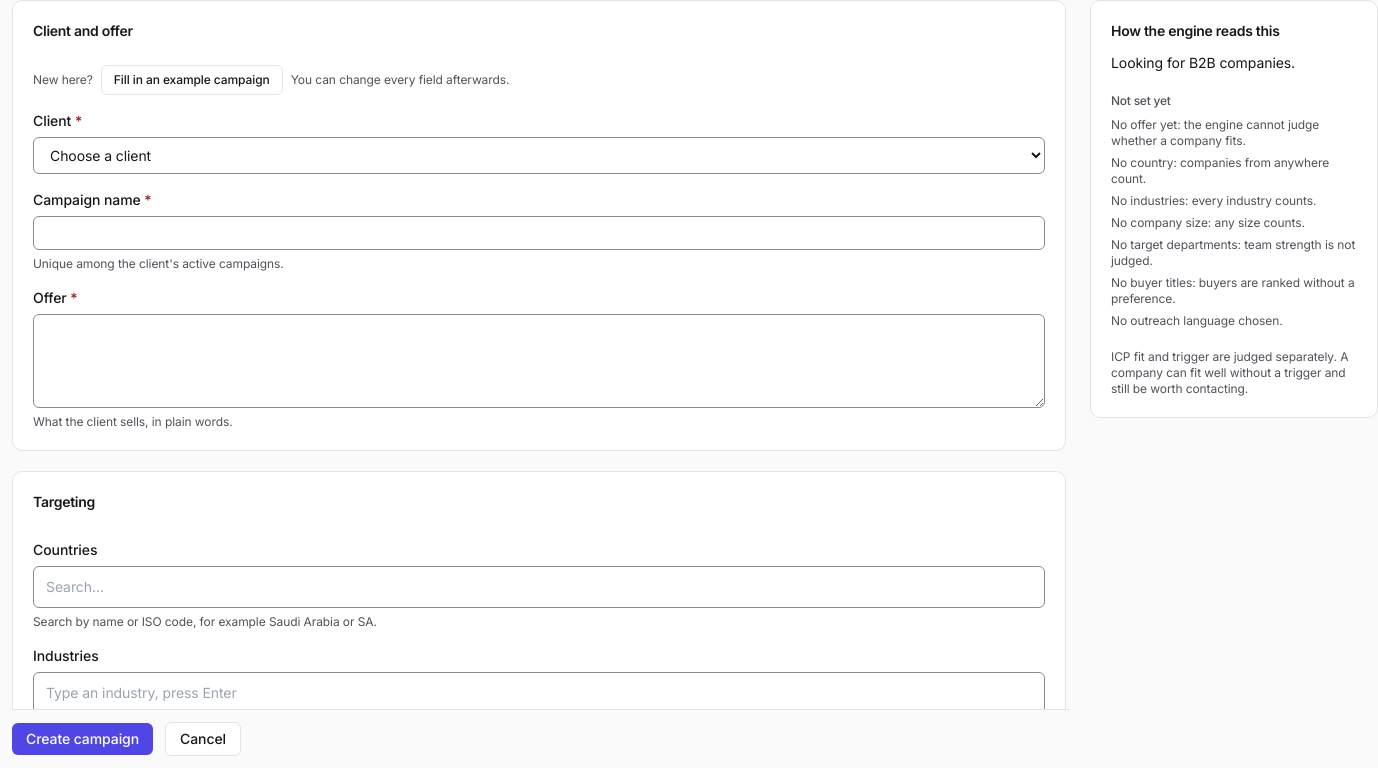
CampaignForm (create) › turns read-only on a 403
The image size is (1378, 768).
Select "SkyLight" in the dropdown labelled "Client *" at (539, 156), box [33, 137, 1045, 174]
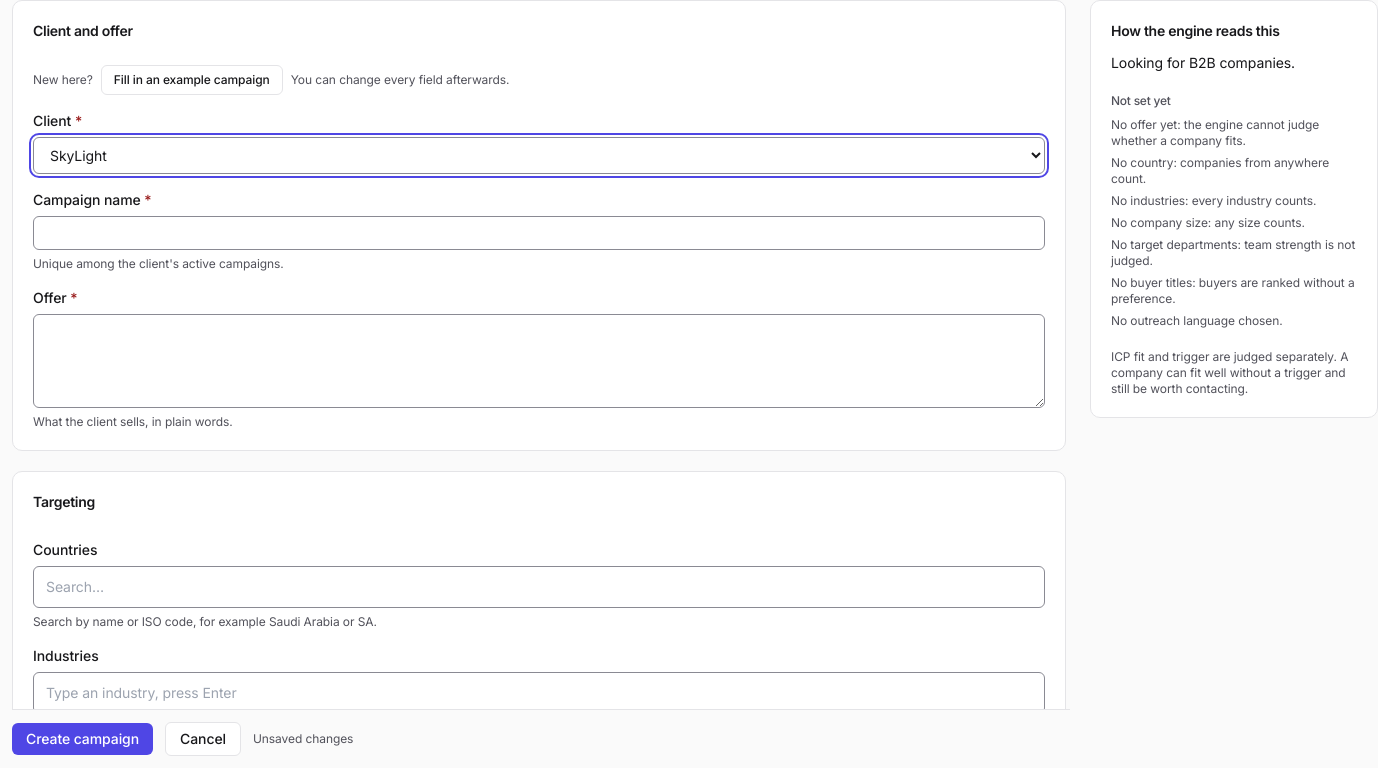
Type "N" into the field labelled "Campaign name *".
click(539, 233); type("N")  # box [33, 216, 1045, 250]
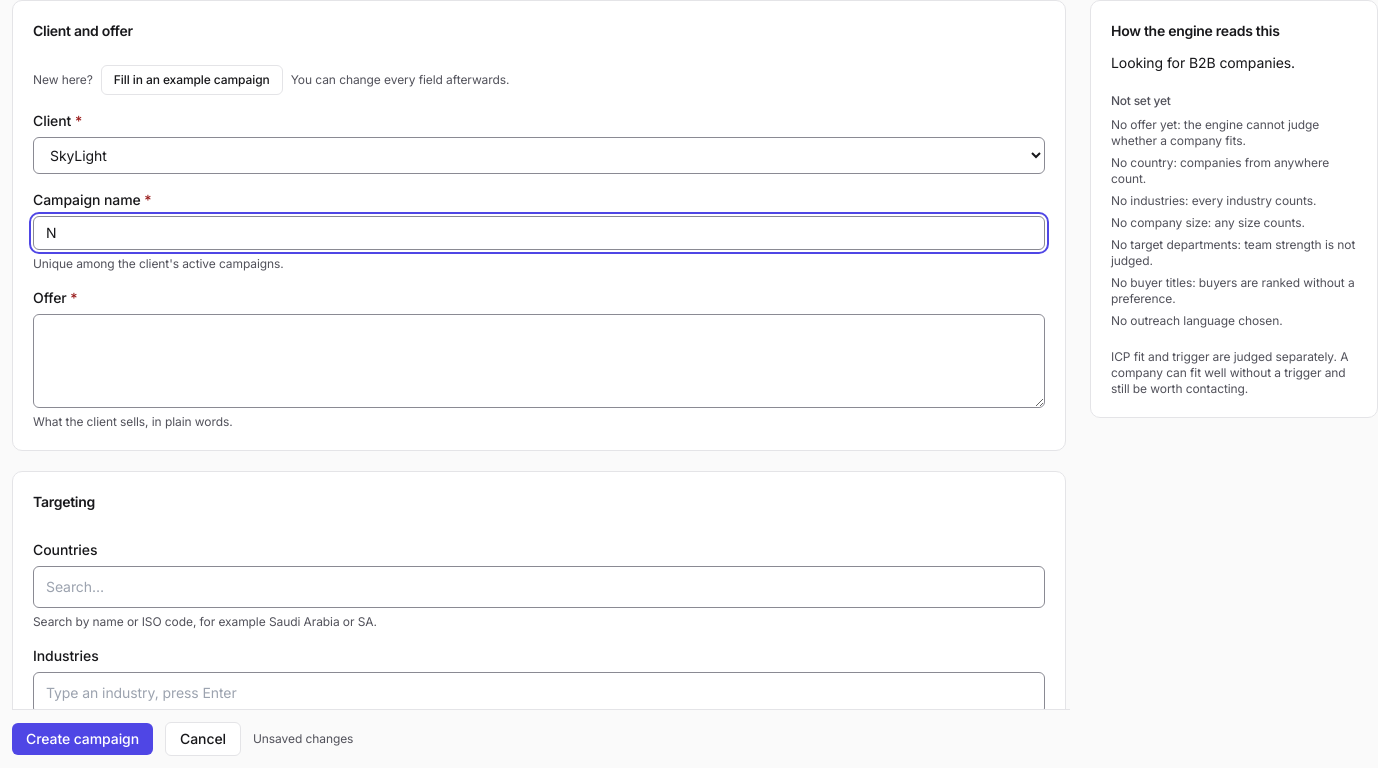
Type "O" into the text box labelled "Offer *".
click(539, 361); type("O")  # box [33, 314, 1045, 408]
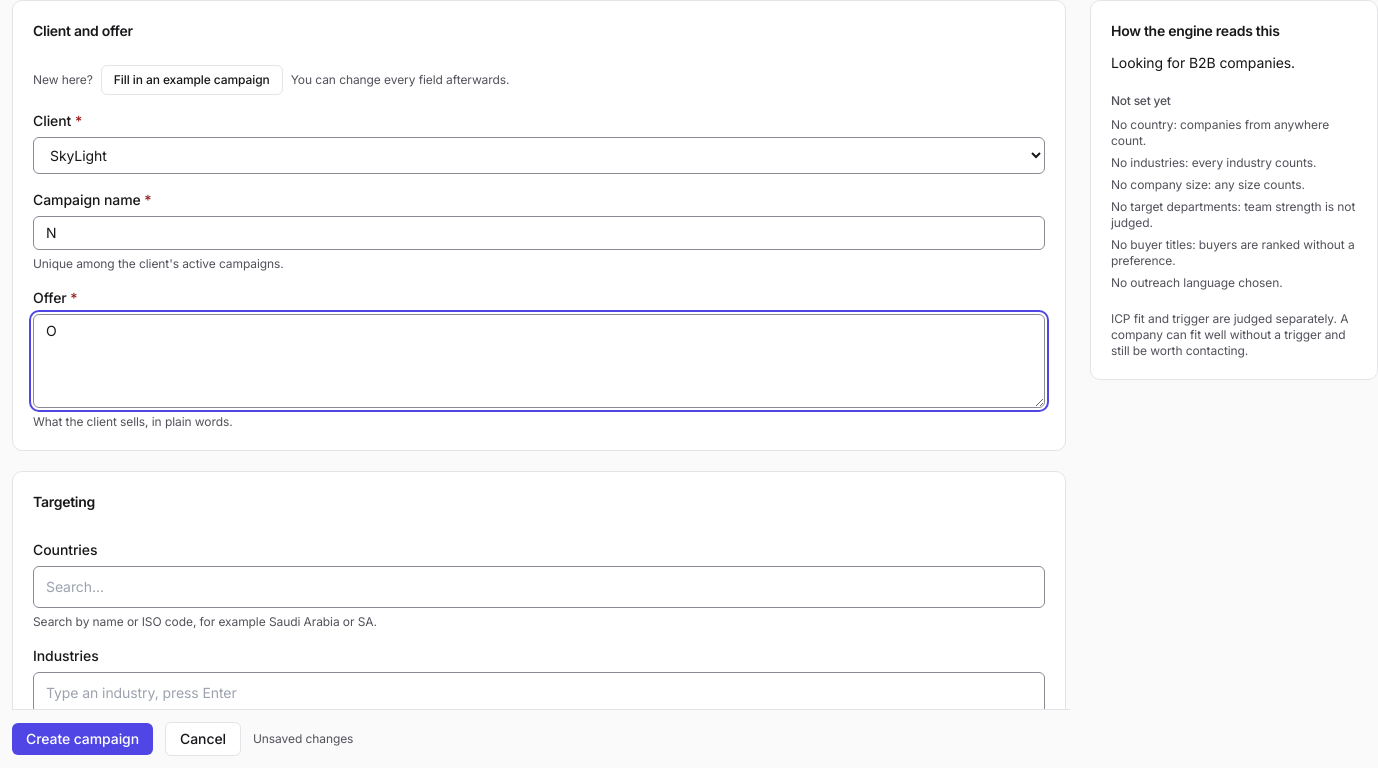
Click the button "Create campaign".
click(82, 739)  # box [12, 723, 153, 755]
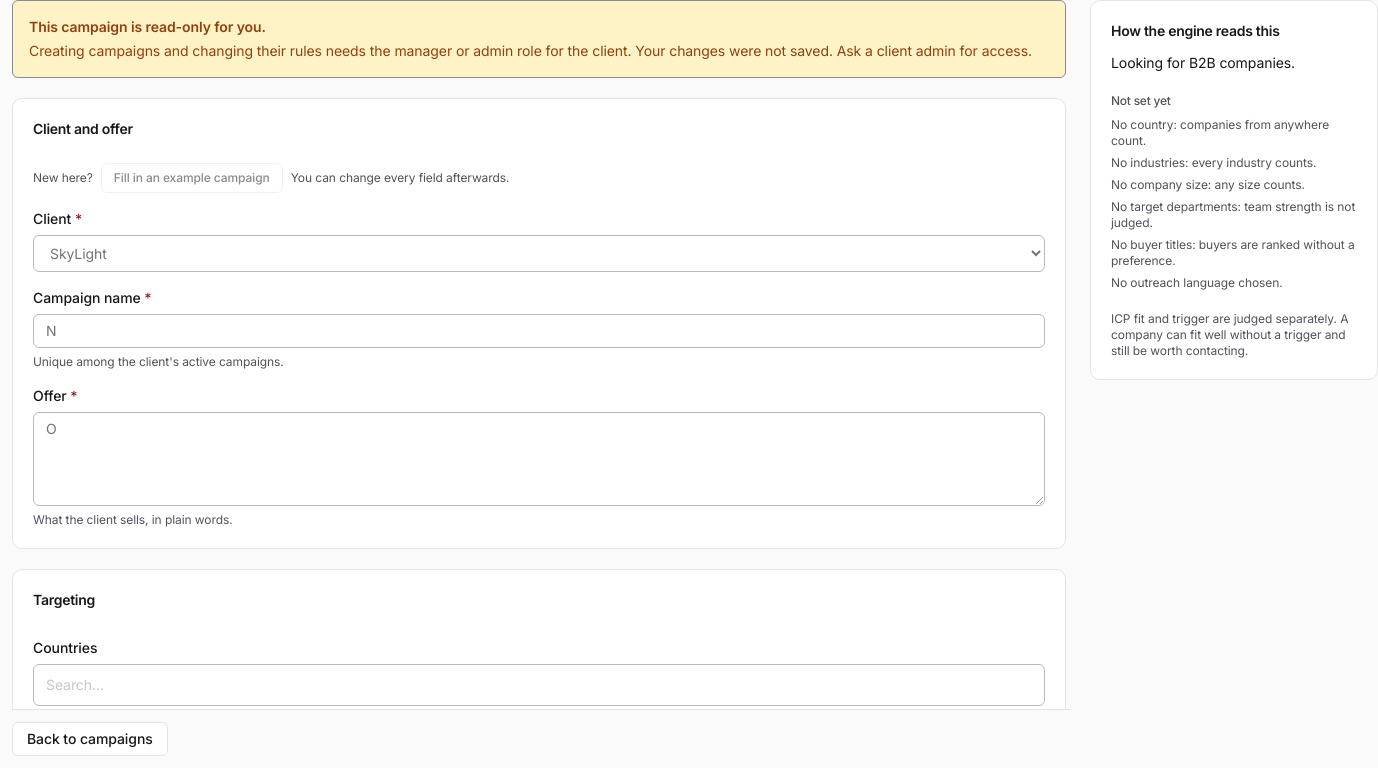
Check: the text "This campaign is read-only for you." is shown, box [29, 18, 266, 35]
Check: the text box labelled "Offer *" is disabled, box [33, 412, 1045, 506]
Check: the button "Create campaign" is gone
